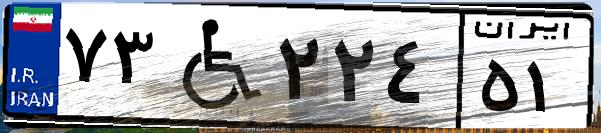1: (525, 38, 570, 115)
2: (270, 28, 330, 110), (330, 28, 385, 110)
3: (110, 28, 158, 98)
4: (385, 28, 445, 110)
5: (475, 38, 525, 113)
7: (57, 26, 110, 100)
ژ (معلولین و جانبازان): (158, 12, 270, 120)
